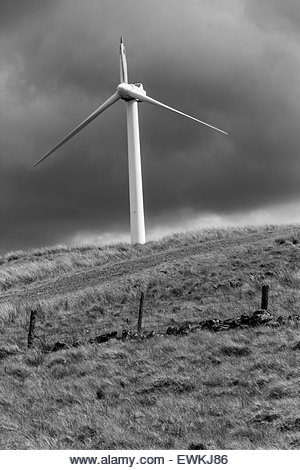faulty: (102, 35, 171, 111)
